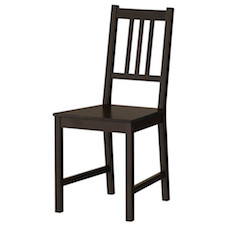chair: (31, 2, 195, 222)
